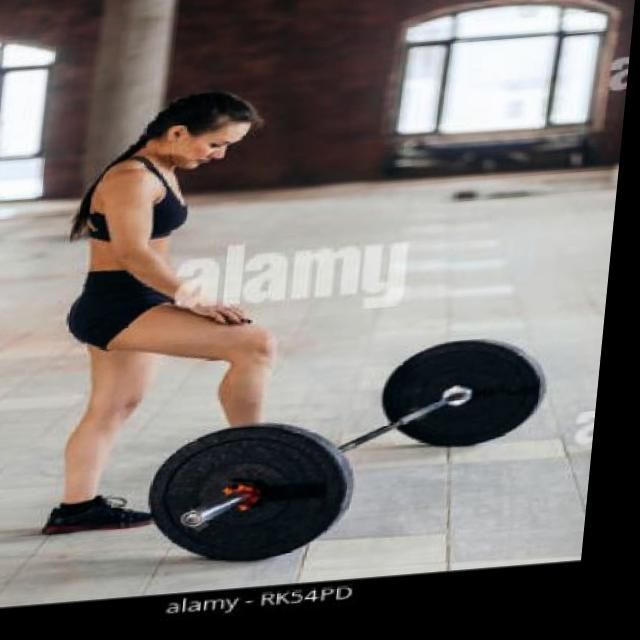barbell: (152, 416, 378, 580)
